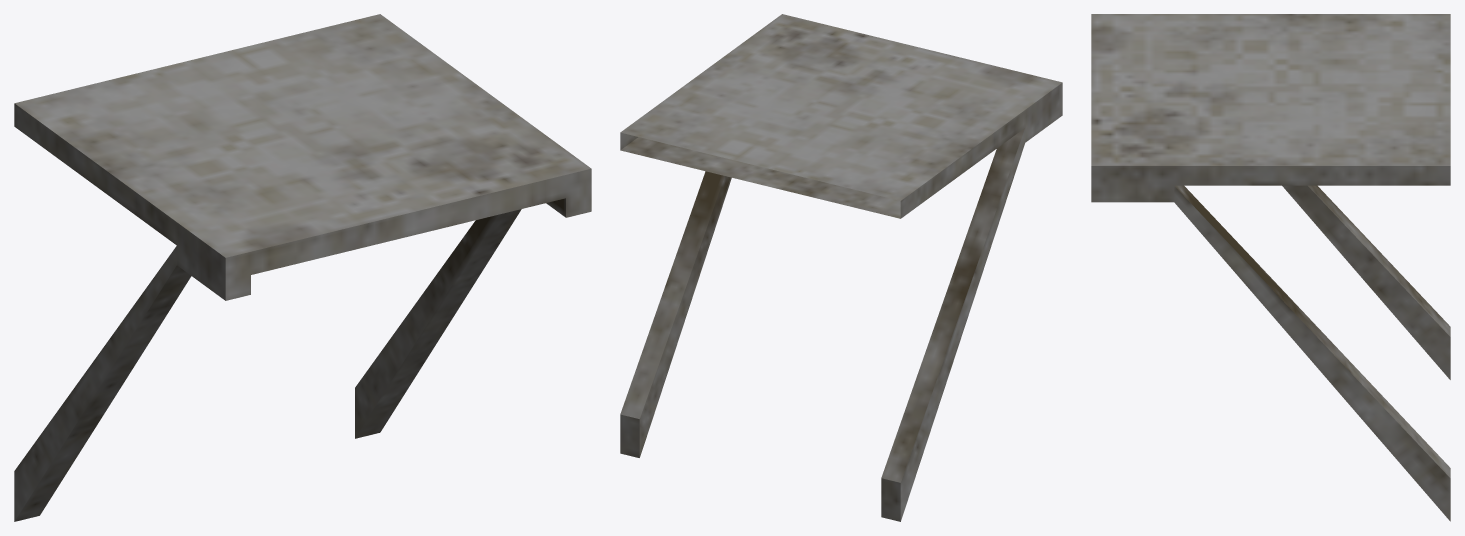
The model's file is table_cell.fbx.
3 renders of one model, left to right at view 1: azimuth 30°, elevation 25°; view 2: azimuth 150°, elevation 25°; view 3: azimuth 270°, elevation 25°, orthographic. The views are drawn at different scales.
Visible parts, largest first — view 1: table_cell; view 2: table_cell; view 3: table_cell.
Part boxes in pixels (box(x1,y1,x2,y2)): table_cell: box(14, 14, 591, 521); table_cell: box(620, 14, 1062, 521); table_cell: box(1091, 14, 1450, 521).
Bounding box in the file's own units: 66.6 × 72.83 × 66.6.
1 material, 1 textured.
